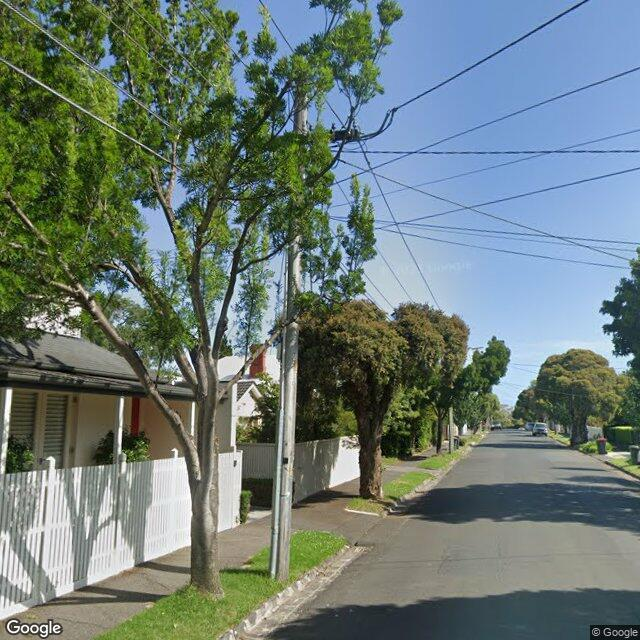crossarm: (245, 128, 360, 153)
timber-pole: (273, 77, 309, 581), (449, 400, 454, 454)
